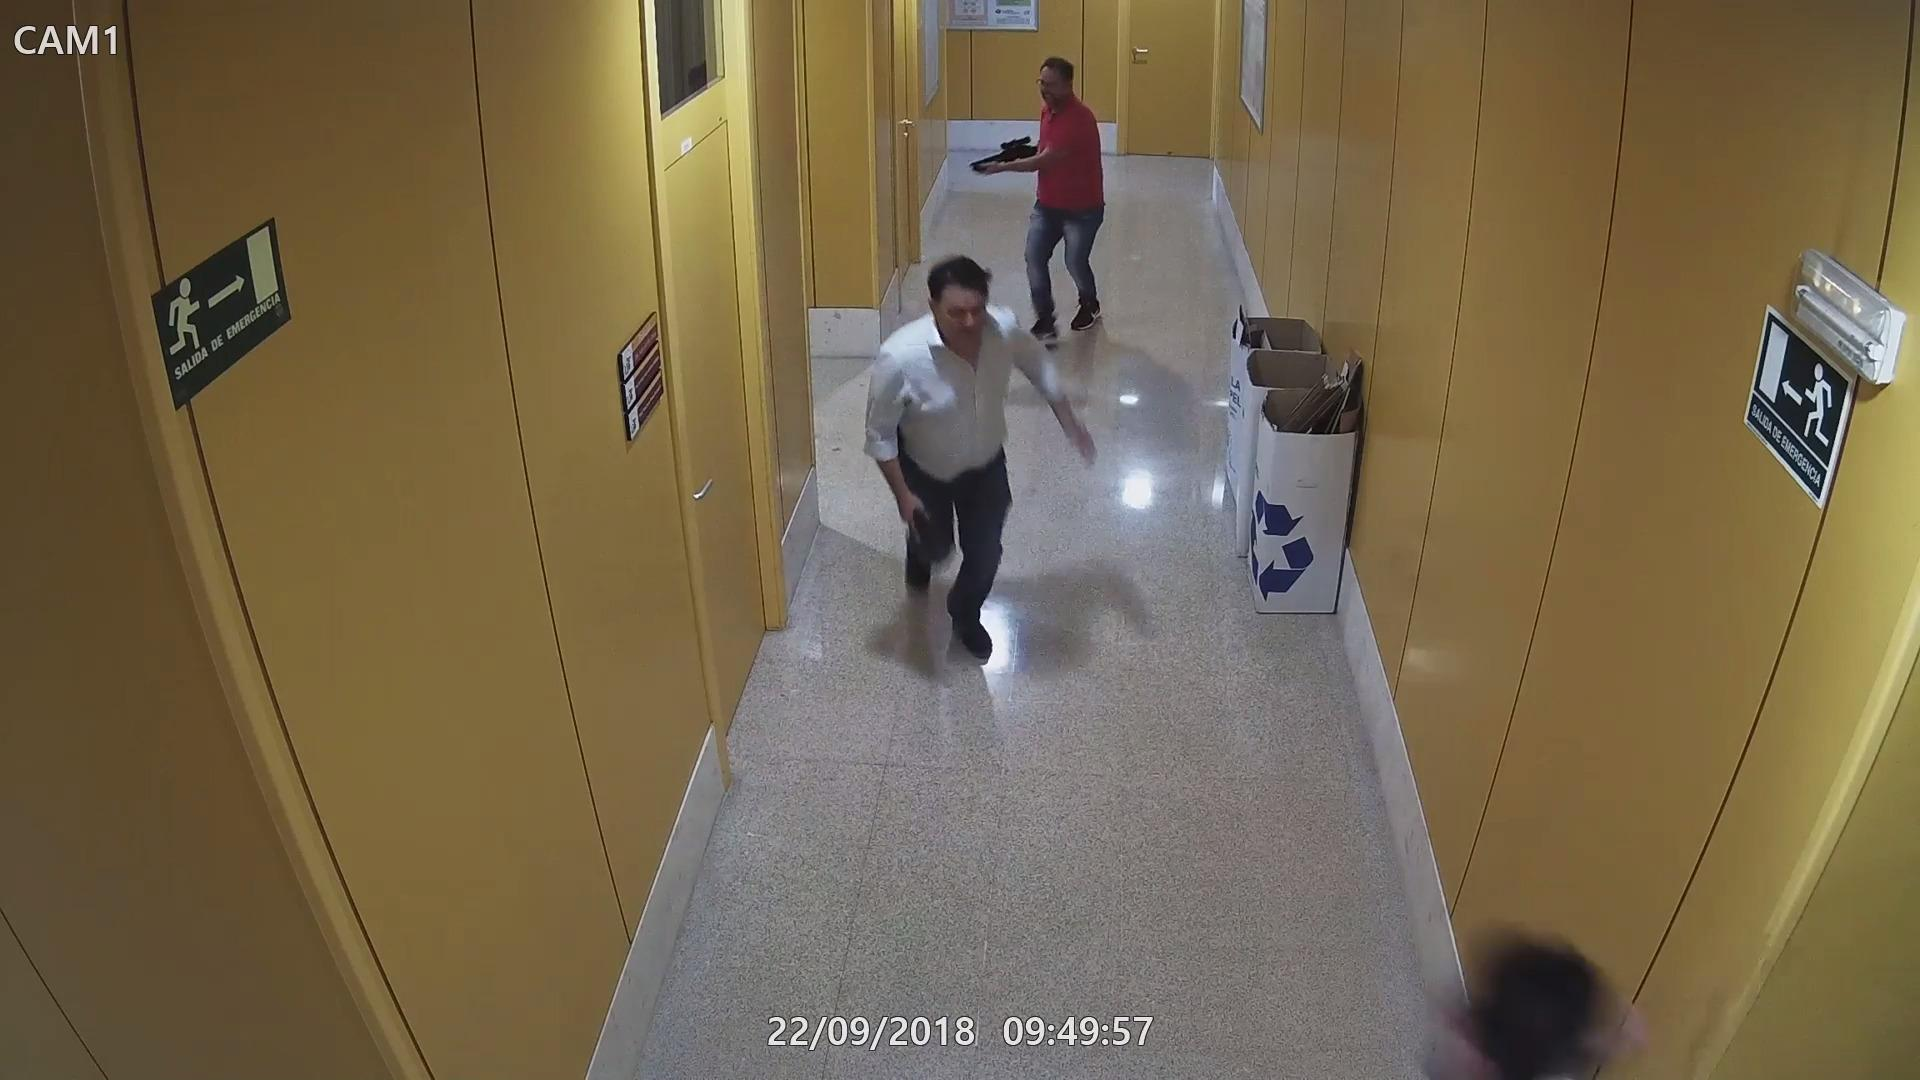Handgun: (899, 492, 942, 564)
